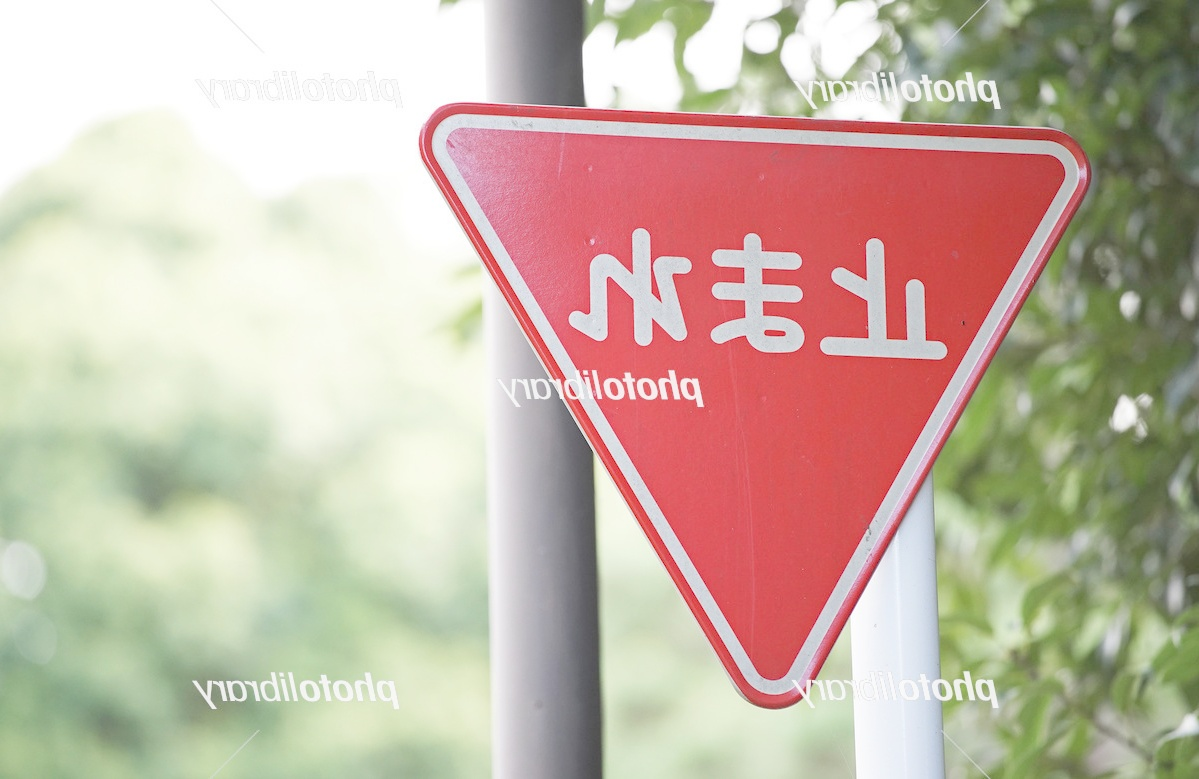Regulatory_sign_triangle: (407, 81, 1126, 719)
